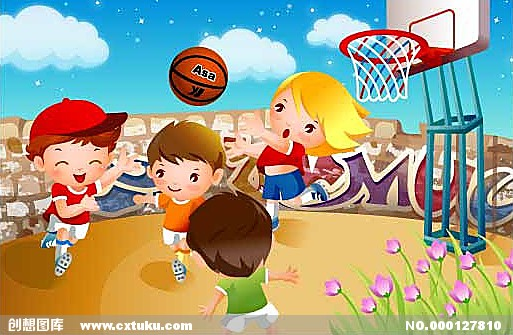ball: (167, 46, 229, 107)
